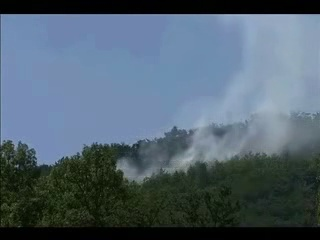smoke: (193, 14, 305, 158), (104, 115, 194, 183)
